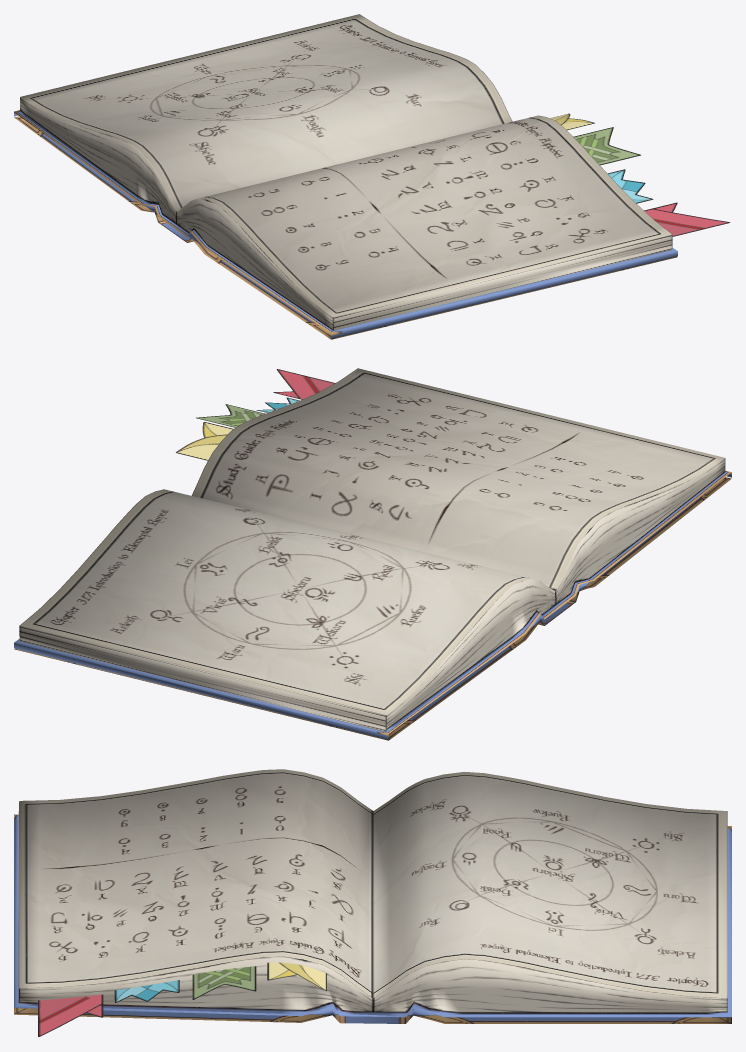
The model's file is RuneBook.fbx.
The picture shows the model from 3 angles, top to bottom: view 1: azimuth 30°, elevation 25°; view 2: azimuth 150°, elevation 25°; view 3: azimuth 270°, elevation 25°; orthographic projection. The views are drawn at different scales.
Parts seen in each view (by area): view 1: Book.002; view 2: Book.002; view 3: Book.002.
Part boxes in pixels (x1=…): Book.002: x1=14, y1=14, x2=729, y2=339; Book.002: x1=14, y1=368, x2=731, y2=740; Book.002: x1=14, y1=769, x2=731, y2=1036.
Bounding box in the file's own units: 291 × 39.27 × 389.
Materials: 2 (2 with a texture image).
